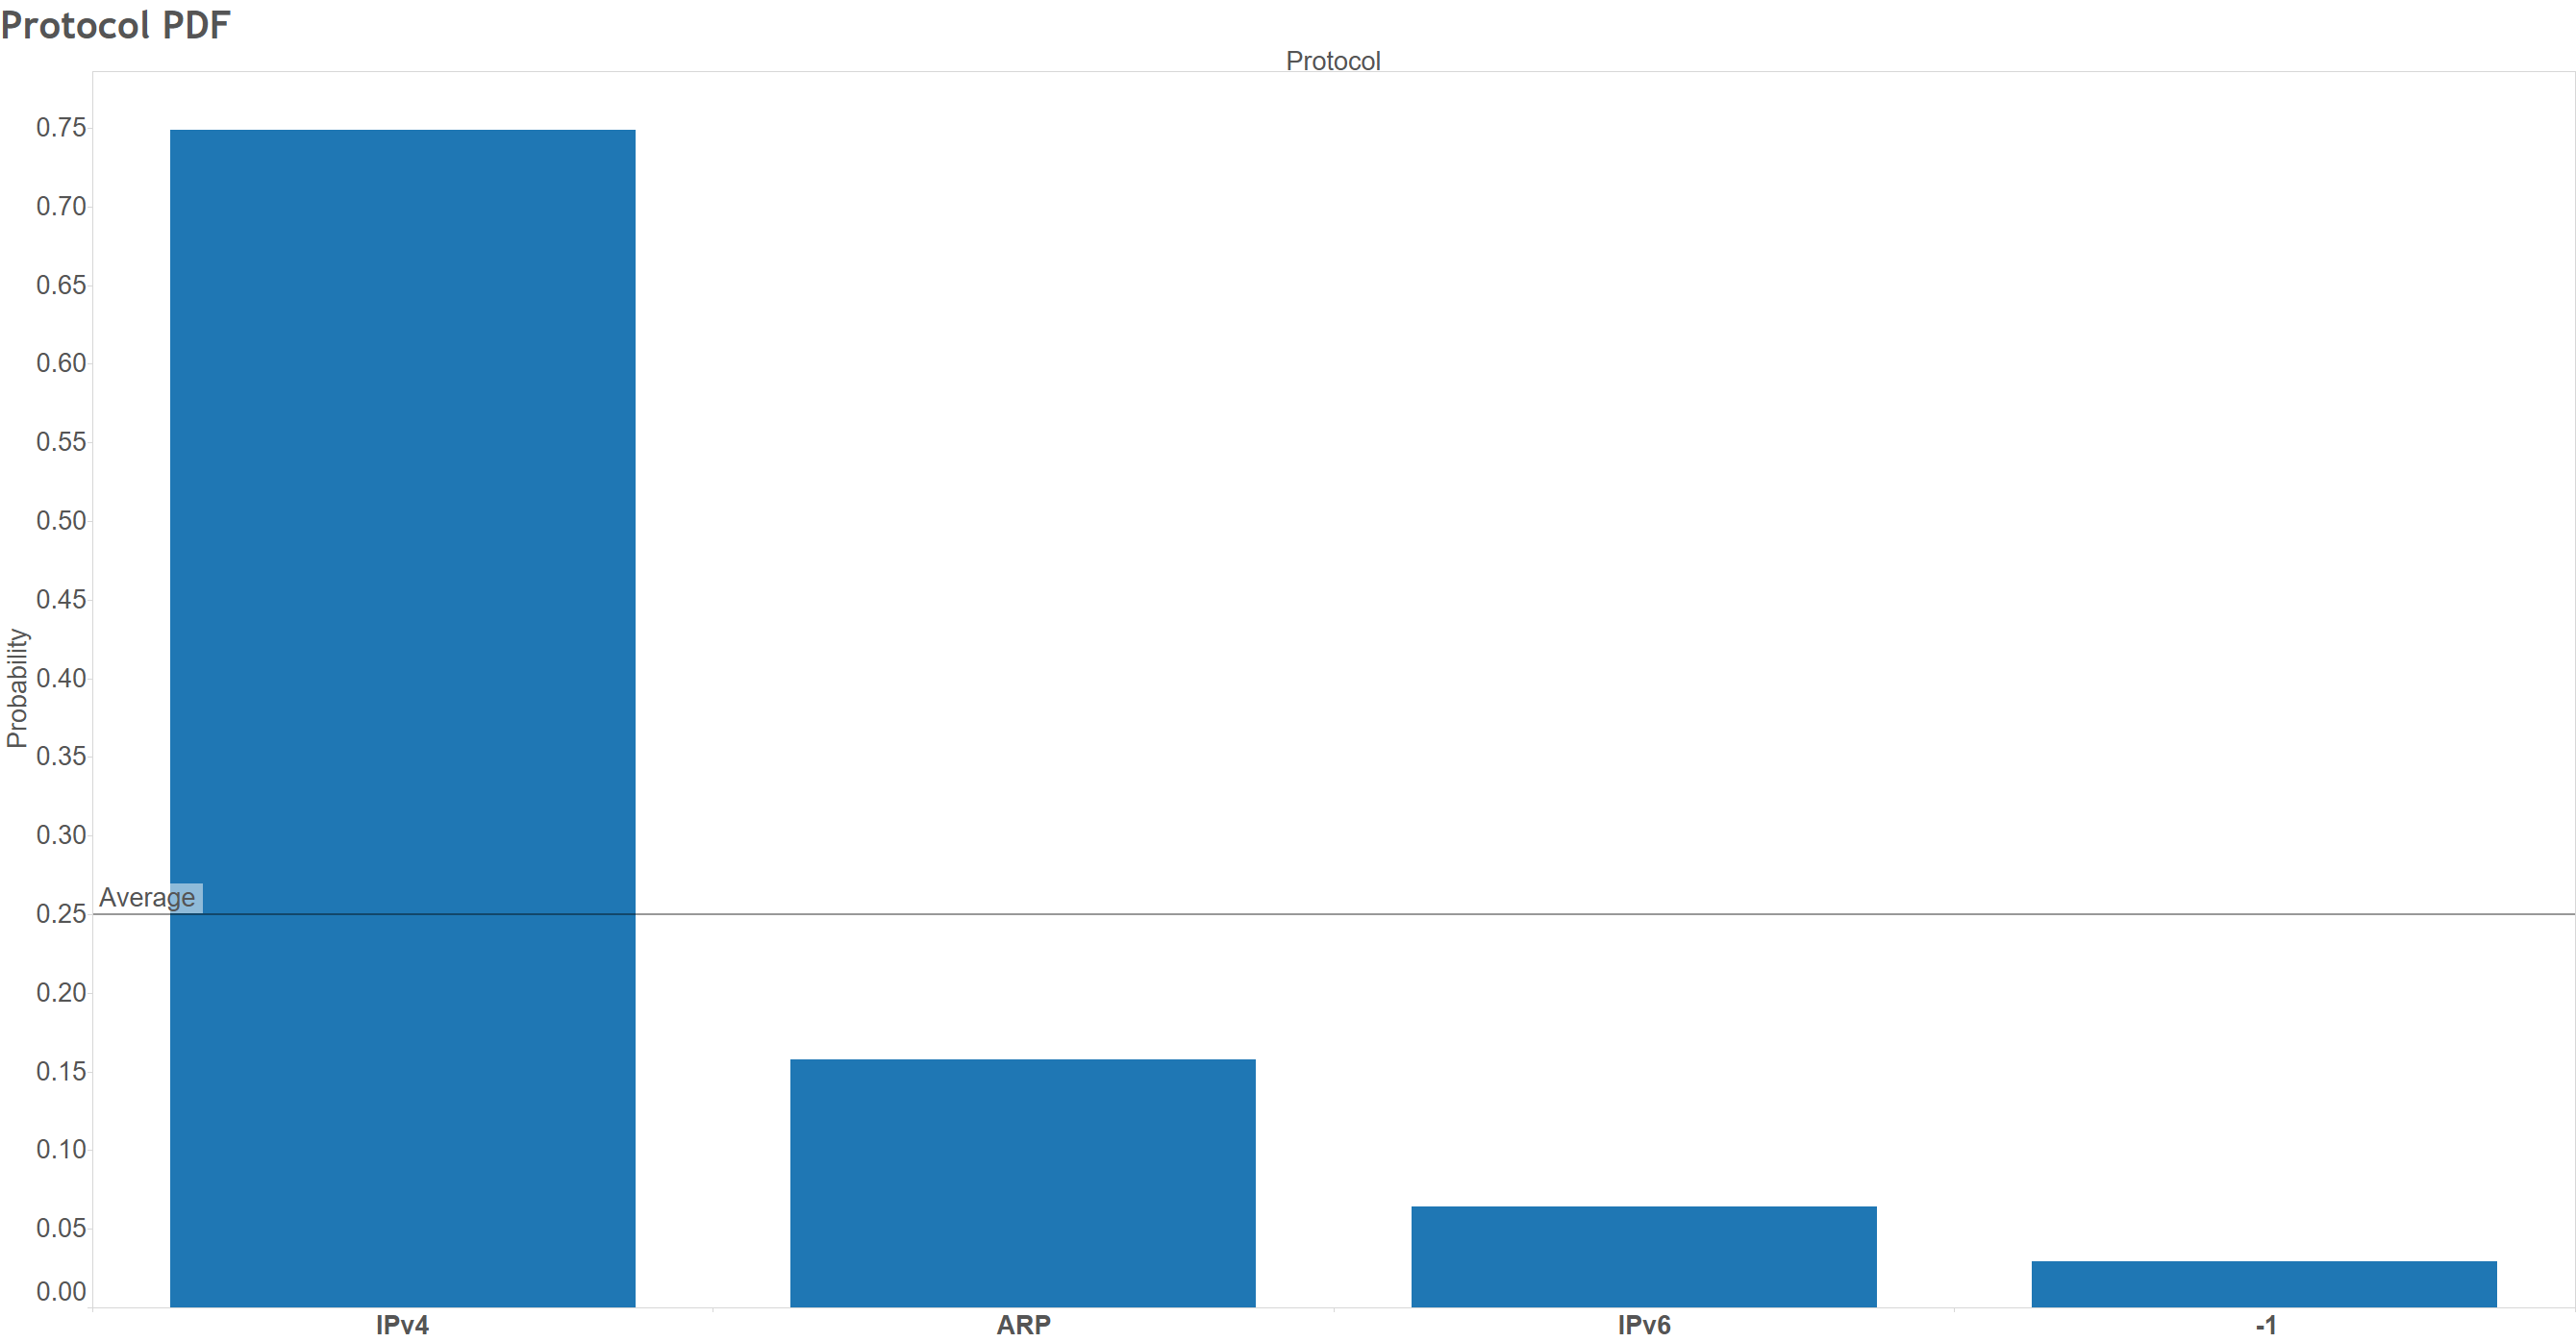

Layout of this report page (visuals, bound fields, positions):
{"tool":"tableau","page":{"name":"Protocol PDF Dashboard","canvas":[1000,1000],"units":"permille","ordinal":2},"visuals":[{"type":"worksheet","title":"Protocol PDF","mark":"Bar","rows":["Calculation_558446359775064070"],"cols":["protocol"],"box":[0,0,1000,1000]}]}

Visuals, with their boxes on the dashboard's canvas, which has no fixed pixel size, in thousandths of its width and height (x1, y1, x2, y2). These are canvas units, not pixel positions in the 2576x1342 screenshot, which may show the page scaled, cropped or inside an application window:
"Protocol PDF" worksheet (Bar marks): 0,0,1000,1000
